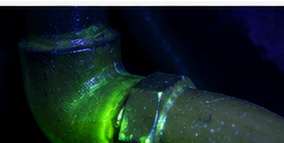hydraulic_oil_leak: (64, 76, 152, 142), (154, 85, 181, 142), (163, 104, 181, 136), (94, 68, 105, 76)
